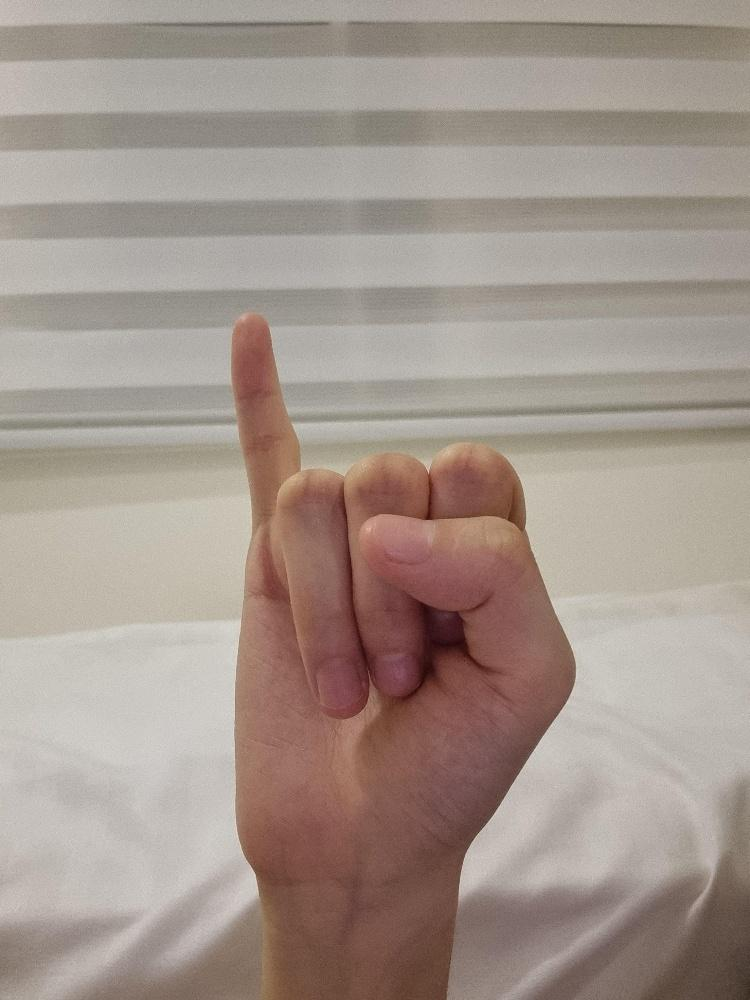i: (226, 310, 581, 879)
